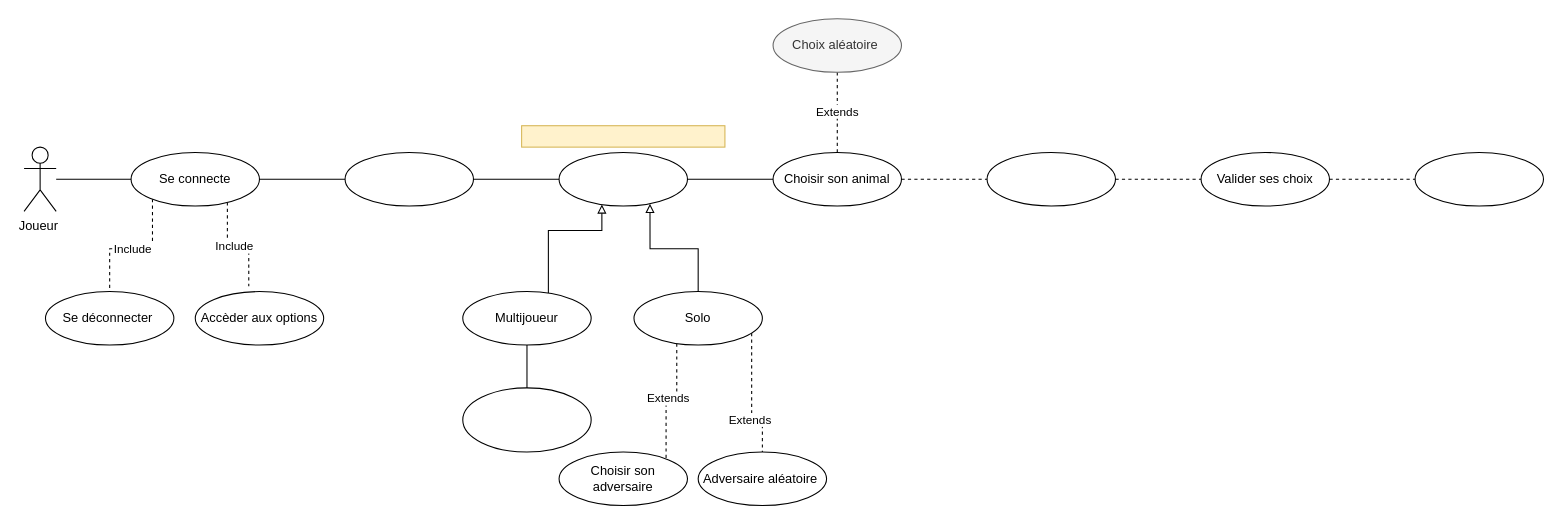
This 1562x524 diagram has some shape labels left out. The centre of each missing label's shape, as x and y in pixels:
Choisir la taille de l'équipe: [526,419]
Choisir mode de jeu: [622,178]
Choisir sa carte: [1050,178]
Choisir solo/multijoueur: [408,178]
Jouer: [1478,178]
Mode de jeu : en équipe ou pas: [623,136]
